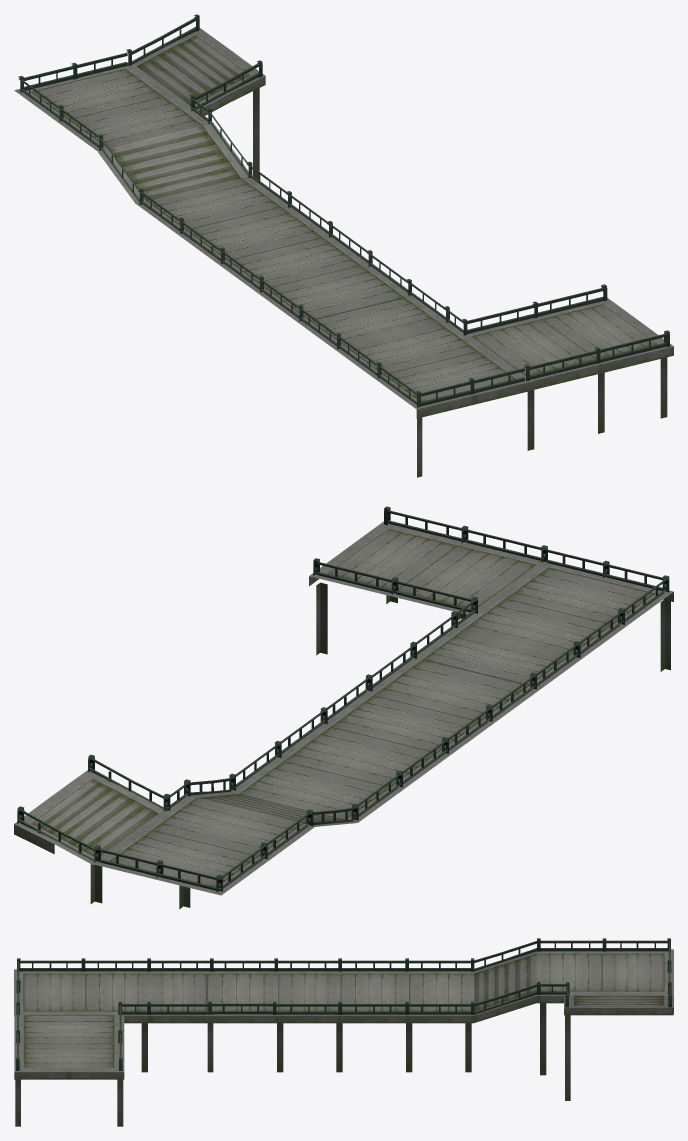
Rendered from yw_yanziwu_pinjieshiqiao03.FBX.
The picture shows the model from 3 angles, top to bottom: view 1: azimuth 30°, elevation 25°; view 2: azimuth 150°, elevation 25°; view 3: azimuth 270°, elevation 25°; orthographic projection. The views are drawn at different scales.
Visible parts, largest first — view 1: yw_yanziwu_pinjieshiqiao03; view 2: yw_yanziwu_pinjieshiqiao03; view 3: yw_yanziwu_pinjieshiqiao03.
Boxes of the visible parts, x1,y1,x2,y2 form: yw_yanziwu_pinjieshiqiao03: (14,14,673,477); yw_yanziwu_pinjieshiqiao03: (14,506,673,909); yw_yanziwu_pinjieshiqiao03: (14,938,673,1126).
Bounding box in the file's own units: 953 × 460 × 2580.
